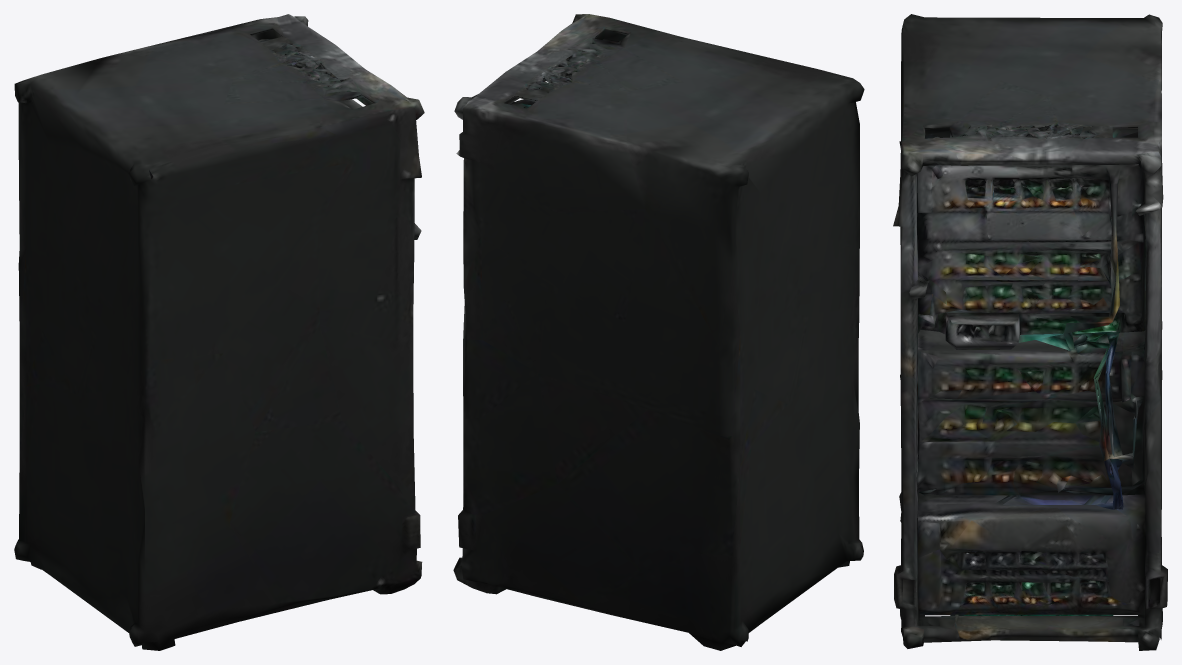
The model's file is xd_server.glb.
3 views of the same model, side by side, from view 1: azimuth 30°, elevation 25°; view 2: azimuth 150°, elevation 25°; view 3: azimuth 270°, elevation 25° (orthographic). The views are drawn at different scales.
Visible parts, largest first — view 1: tripo_node_cb583649-2bae-4f0d-b551-5221b79f036f; view 2: tripo_node_cb583649-2bae-4f0d-b551-5221b79f036f; view 3: tripo_node_cb583649-2bae-4f0d-b551-5221b79f036f.
Boxes of the visible parts, x1,y1,x2,y2 form: tripo_node_cb583649-2bae-4f0d-b551-5221b79f036f: [14, 14, 424, 650]; tripo_node_cb583649-2bae-4f0d-b551-5221b79f036f: [453, 14, 864, 650]; tripo_node_cb583649-2bae-4f0d-b551-5221b79f036f: [893, 14, 1167, 650].
Bounding box in the file's own units: 0.6291 × 1 × 0.4996.
1 material, 1 textured.
